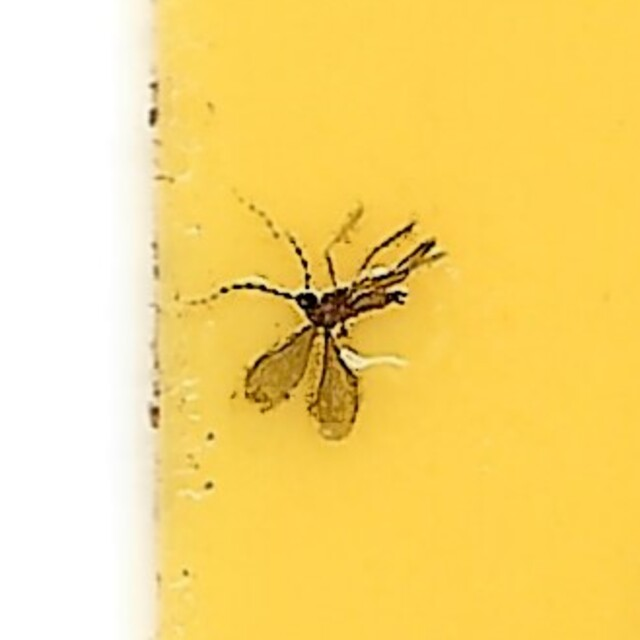Nematocera: (195, 199, 445, 441)
